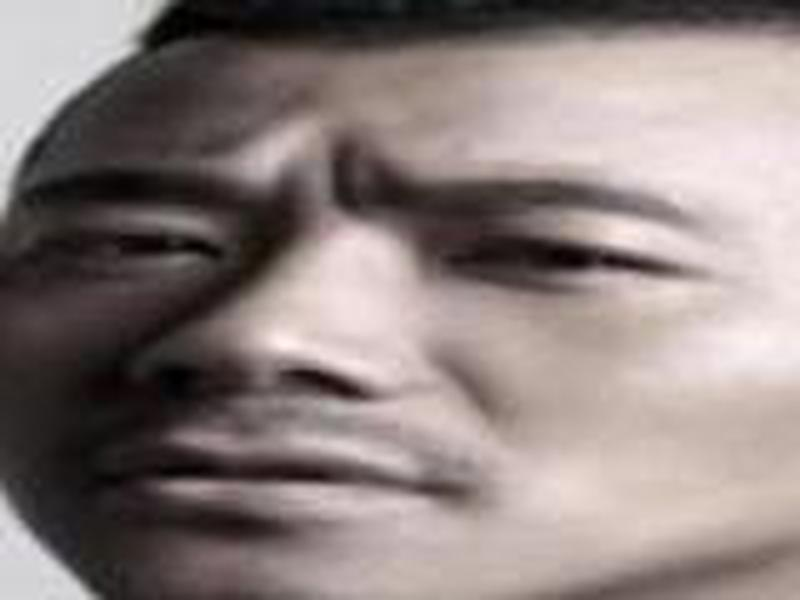without_mask: (1, 55, 798, 600)
